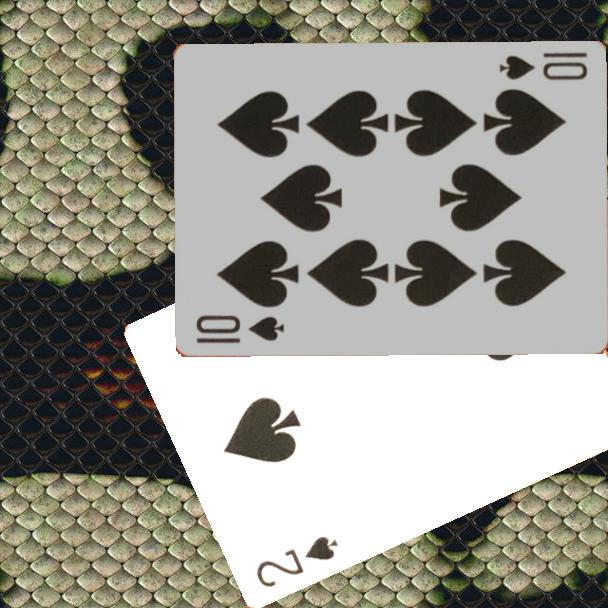s02: (253, 532, 341, 590)
s10: (191, 311, 287, 347), (496, 49, 590, 84)
